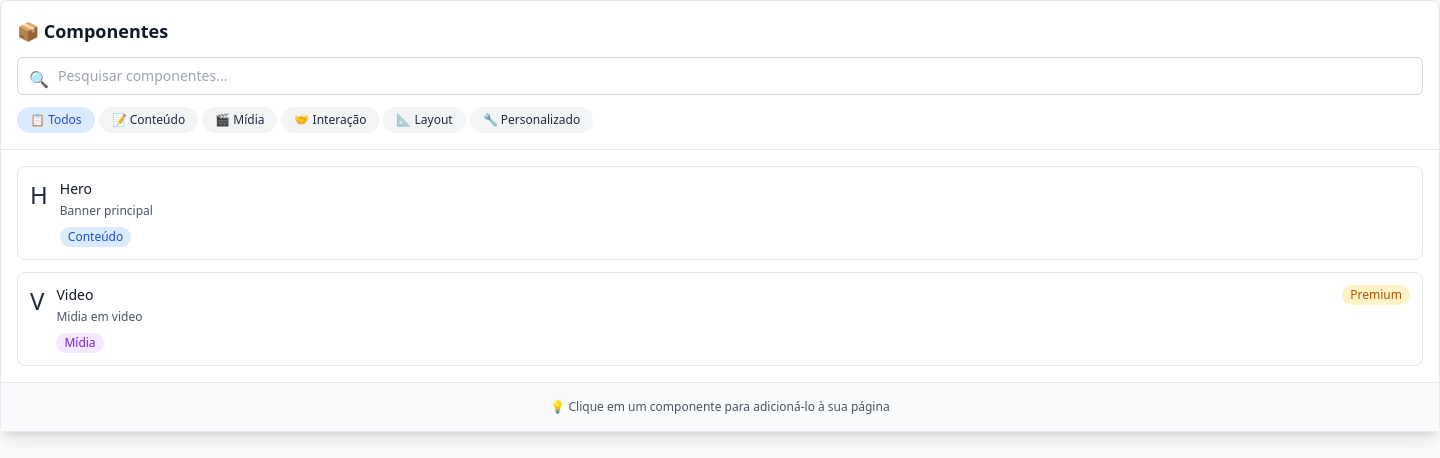
Test: ComponentPalette › filtra por pesquisa e categoria e mostra estado vazio
The width and height of the screenshot is (1440, 458).
Type "Video" into the field with placeholder "Pesquisar componentes..." at {"x": 720, "y": 76}, box [17,57,1423,95]
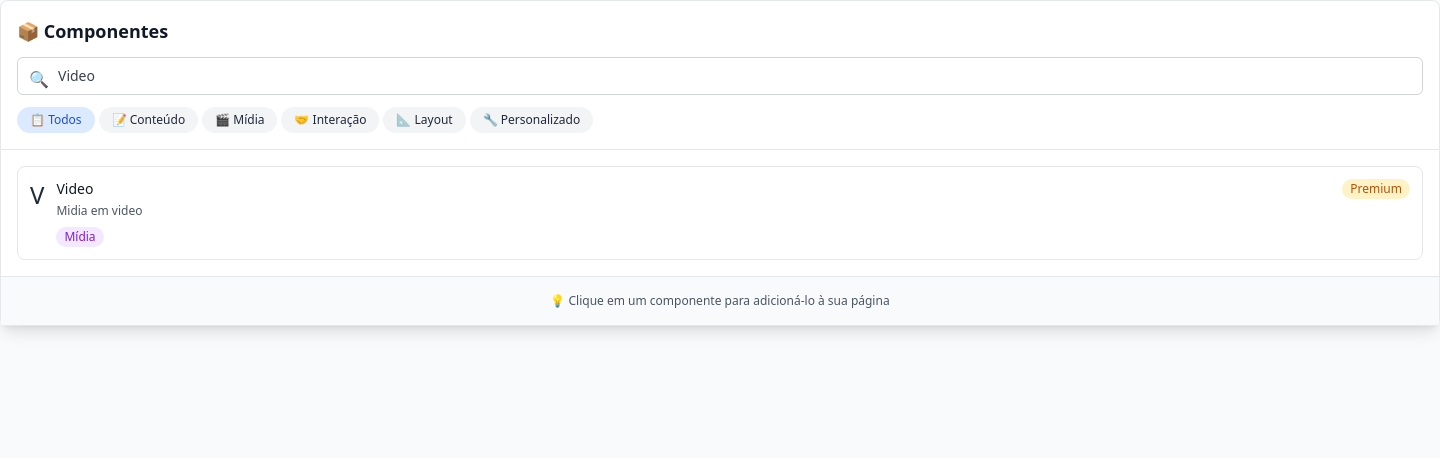
Expected: the heading "Video" is shown, [56,179,93,199]
Expected: the heading "Hero" is gone
Click the button "📝 Conteúdo" at {"x": 148, "y": 120}, box [99,107,198,133]
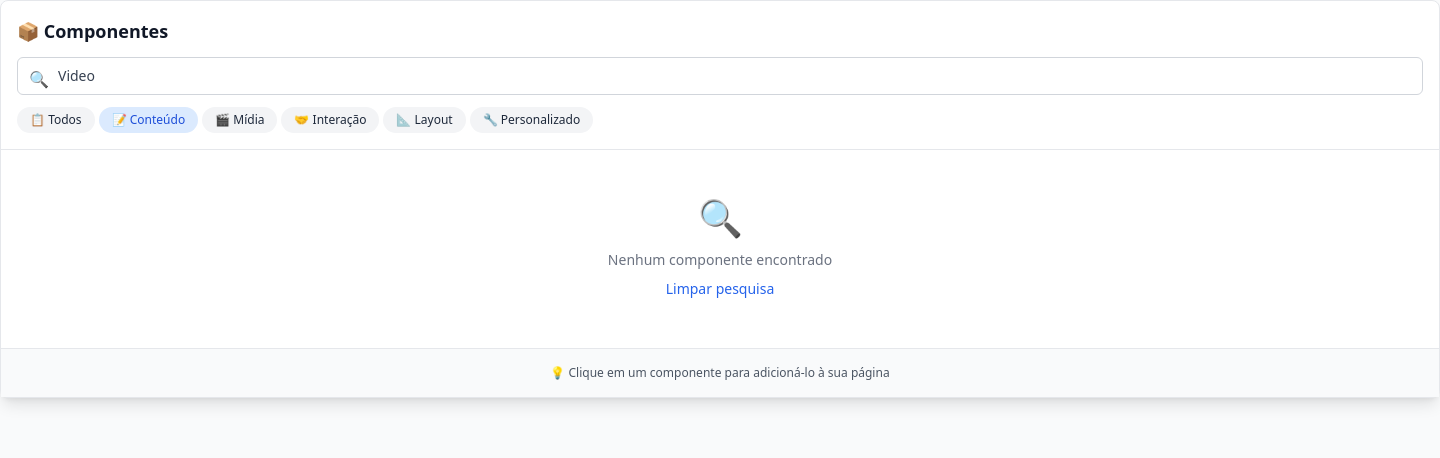
Expected: the text "Nenhum componente encontrado" is shown, [608,250,832,269]
Click the button "Limpar pesquisa" at {"x": 720, "y": 289}, box [665,278,775,300]
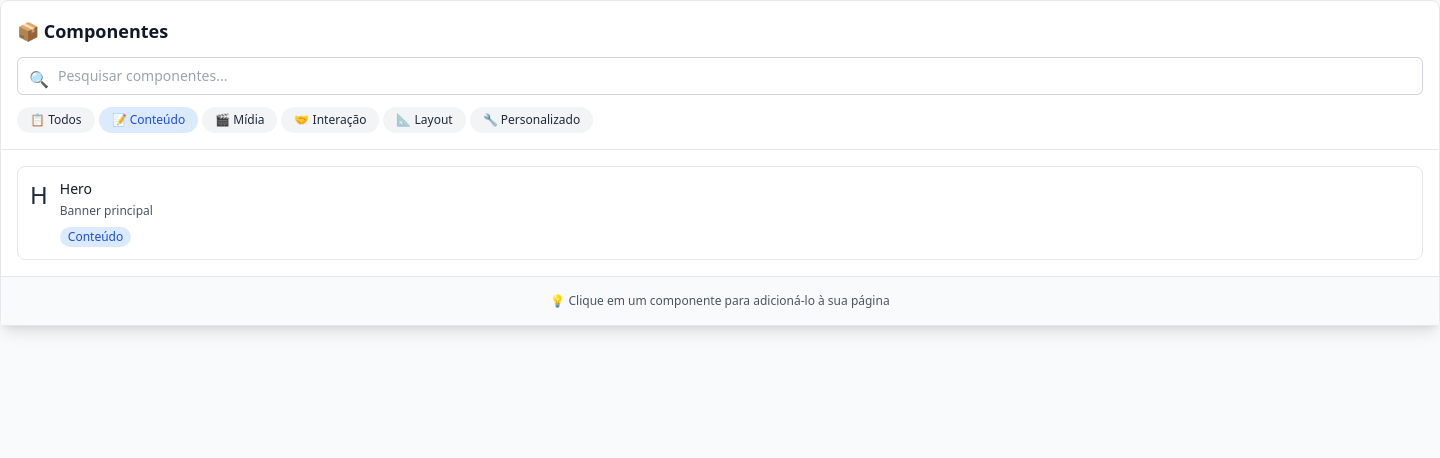
Expected: the heading "Hero" is shown, [60,179,92,199]
